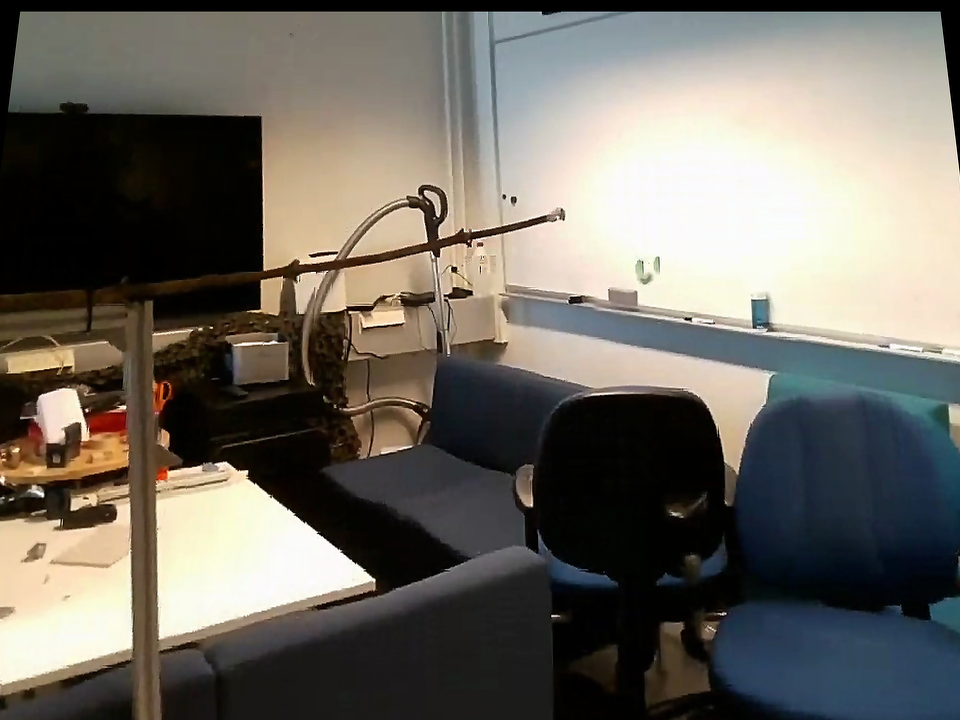branch: (159, 210, 542, 299)
